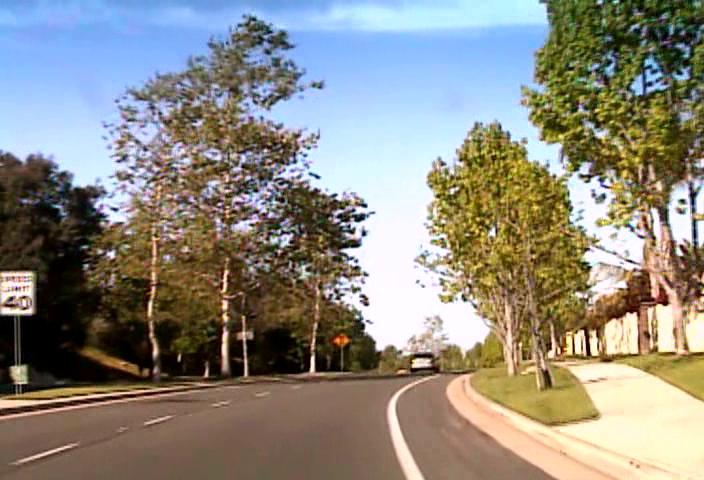signalAhead: (332, 331, 351, 348)
